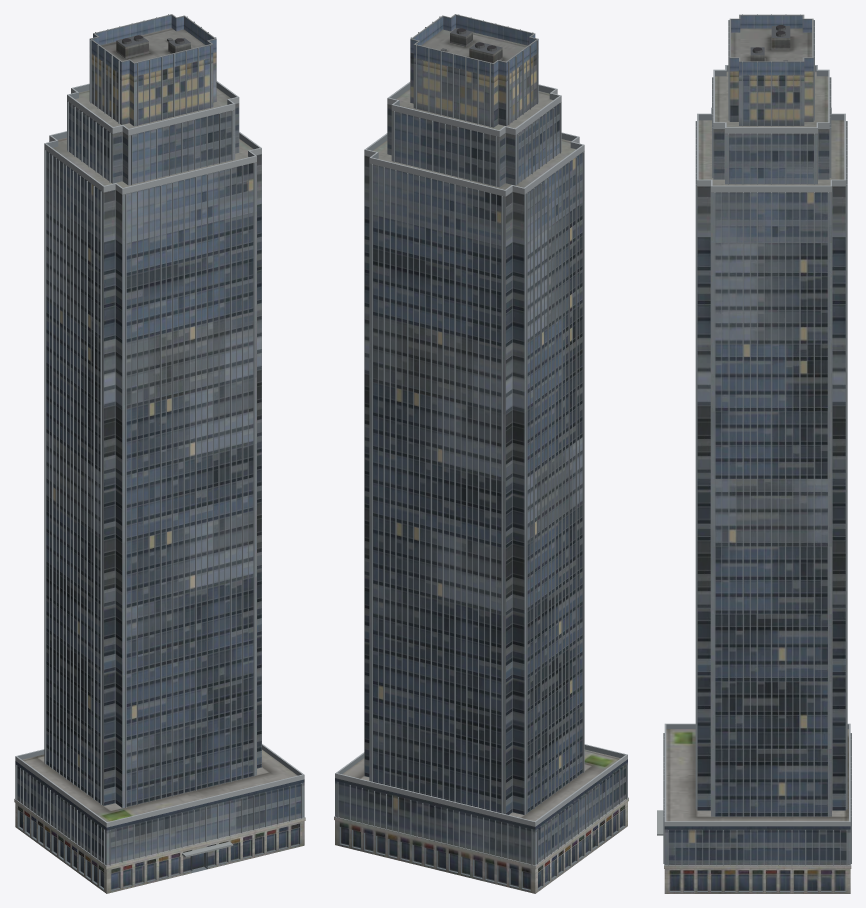
File: nyc_glasstower_b.glb
3 renders of one model, left to right at view 1: azimuth 30°, elevation 25°; view 2: azimuth 150°, elevation 25°; view 3: azimuth 270°, elevation 25°, orthographic.
Parts seen in each view (by area): view 1: nyc_glasstower_b; view 2: nyc_glasstower_b; view 3: nyc_glasstower_b.
Part boxes in pixels (x1,y1,x2,y2): nyc_glasstower_b: [14, 14, 305, 893]; nyc_glasstower_b: [334, 14, 628, 893]; nyc_glasstower_b: [657, 14, 851, 893].
Bounding box in the file's own units: 50.48 × 191 × 41.84.
1 material, 1 textured.
